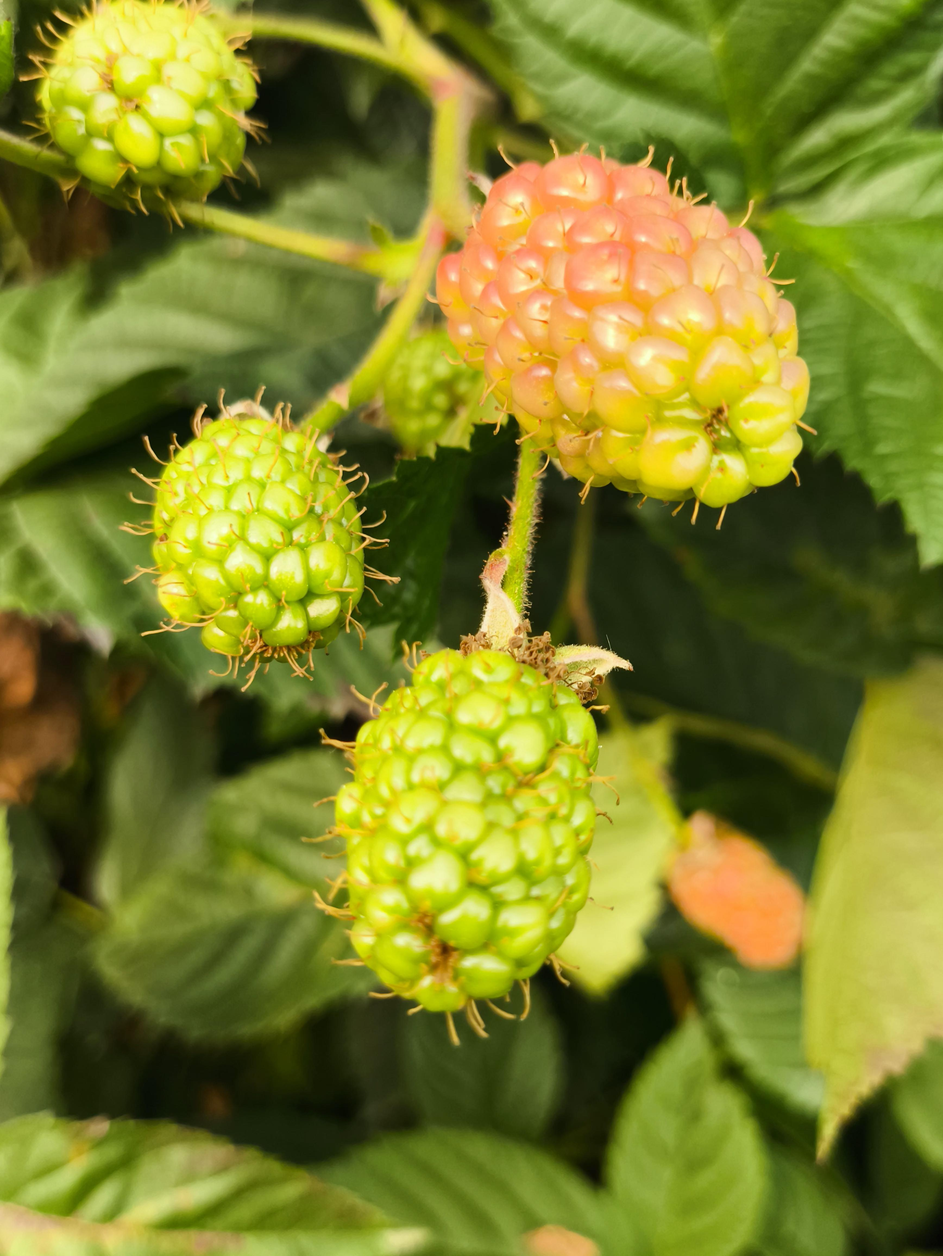verde: (444, 151, 801, 497), (321, 643, 598, 1041), (138, 390, 367, 683), (34, 0, 256, 204)
